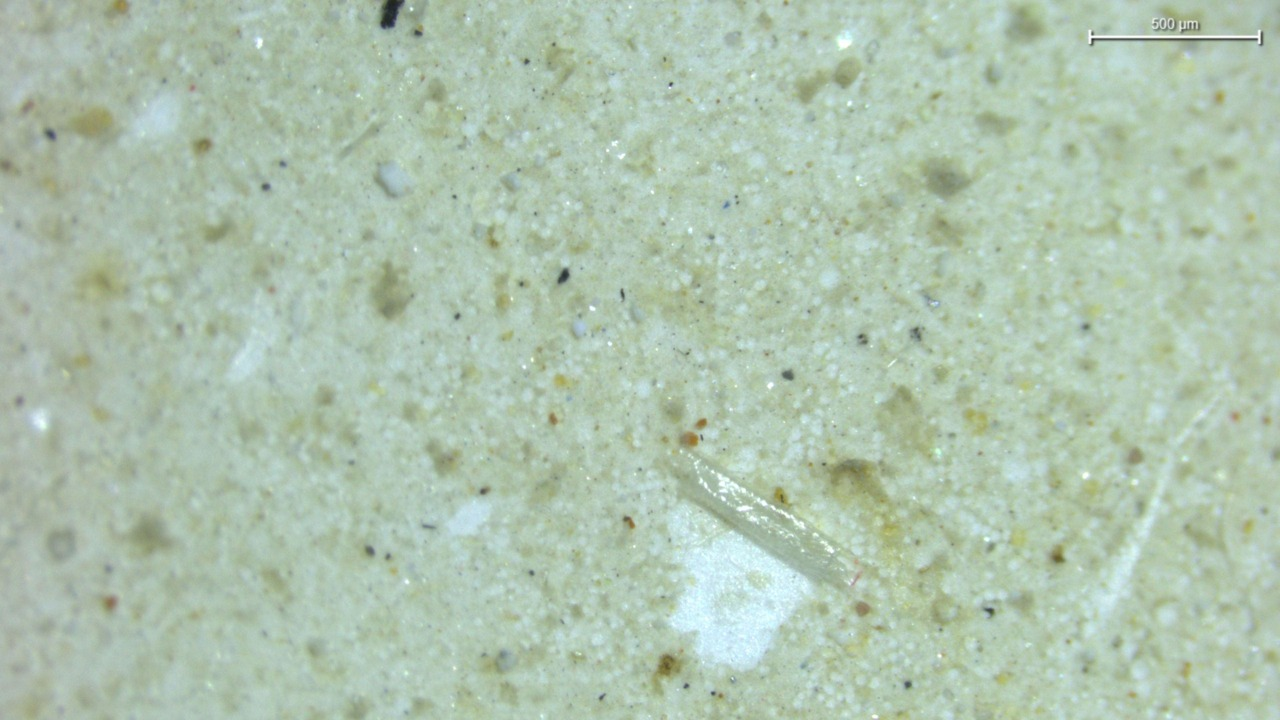microplastic_fragment: (375, 161, 412, 198), (572, 320, 587, 337)
